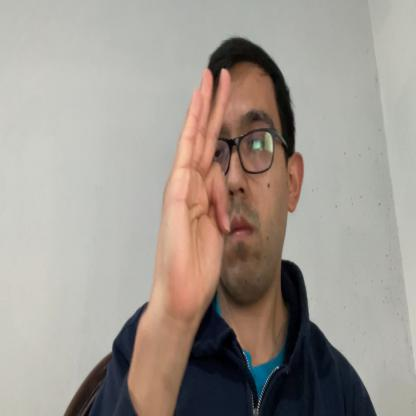F: (158, 67, 232, 317)
